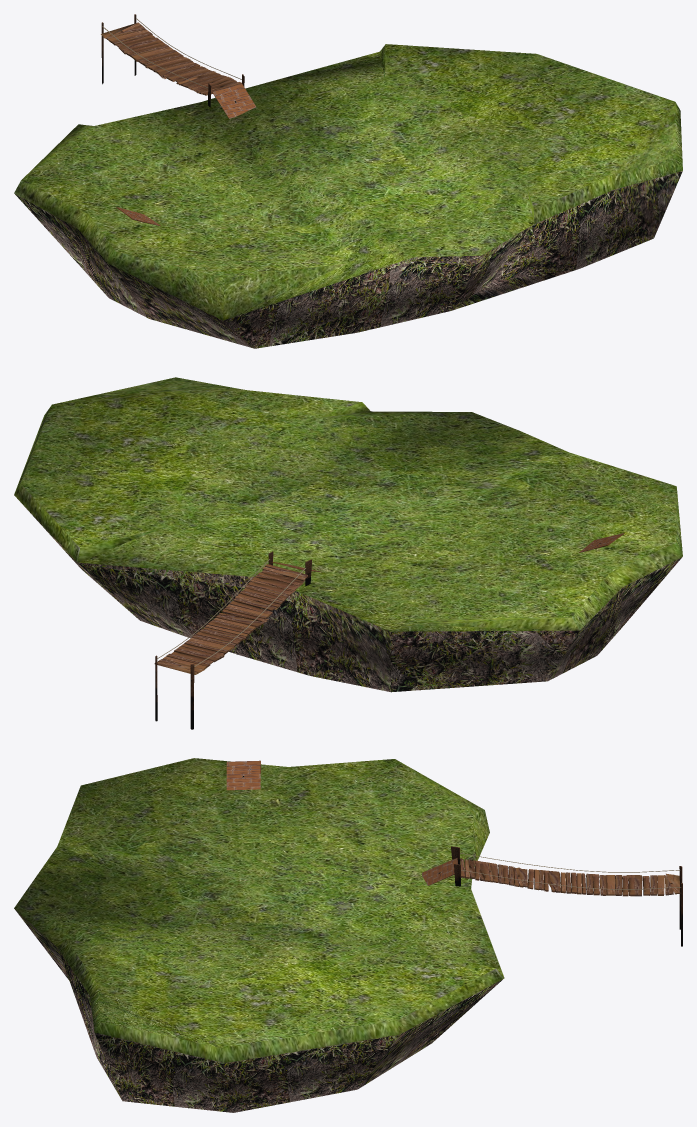
File: ChinampaC.obj
3 views of the same model, one above another, from view 1: azimuth 30°, elevation 25°; view 2: azimuth 150°, elevation 25°; view 3: azimuth 270°, elevation 25° (orthographic). The views are drawn at different scales.
Parts seen in each view (by area): view 1: Island_Final, defaultMaterial.031, defaultMaterial.029; view 2: Island_Final, defaultMaterial.031, defaultMaterial.032; view 3: Island_Final, defaultMaterial.031, defaultMaterial.025, defaultMaterial.032.
Boxes of the visible parts, x1,y1,x2,y2 form: Island_Final: [14, 44, 682, 348]; defaultMaterial.031: [101, 22, 241, 95]; defaultMaterial.029: [212, 84, 255, 118]; Island_Final: [14, 377, 682, 692]; defaultMaterial.031: [154, 564, 307, 674]; defaultMaterial.032: [155, 551, 312, 729]; Island_Final: [14, 758, 504, 1112]; defaultMaterial.031: [460, 858, 680, 896]; defaultMaterial.025: [226, 760, 260, 790]; defaultMaterial.032: [451, 846, 682, 946].
Size of the model in its own units: 183 by 31.77 by 174.
6 materials, 6 textured.
